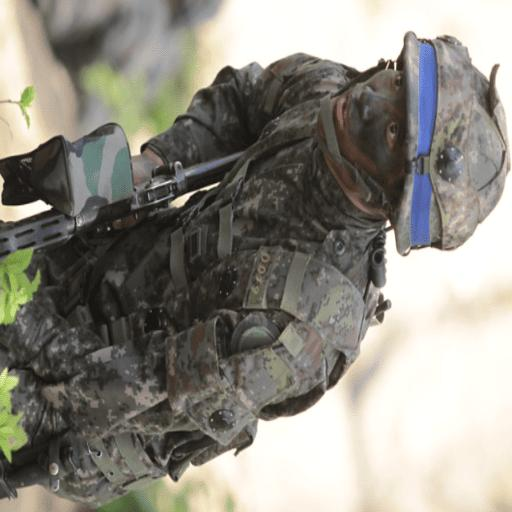korea army: (0, 29, 509, 508)
